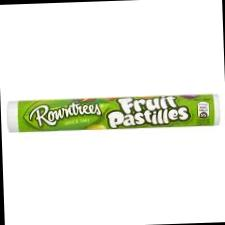Plastik: (8, 91, 220, 133)
